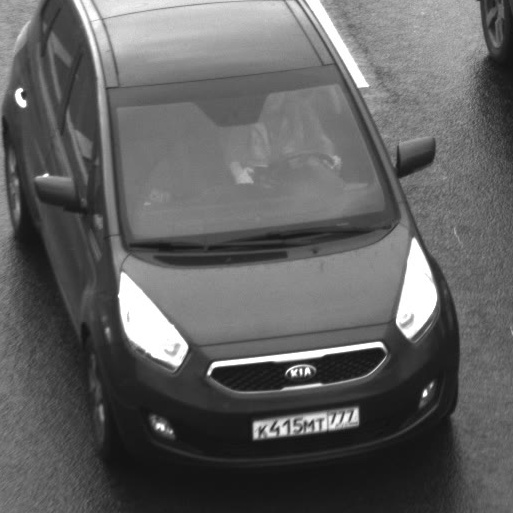plate: (239, 392, 368, 448)
